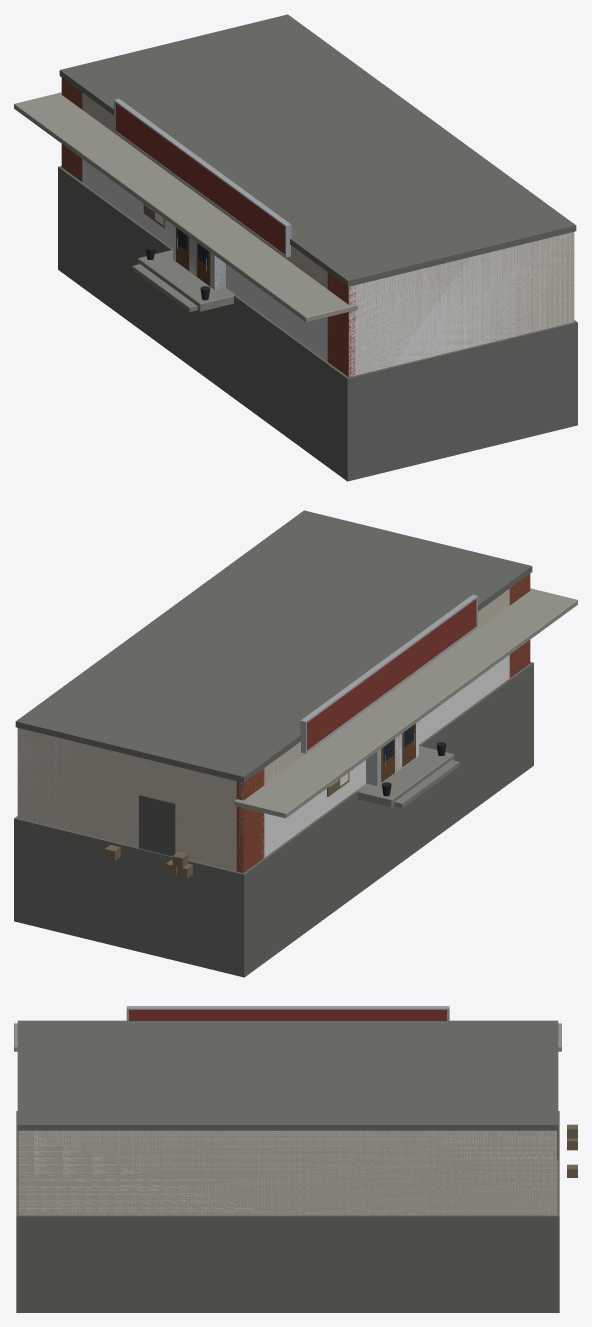
Rendered from shop.glb.
The picture shows the model from 3 angles, top to bottom: view 1: azimuth 30°, elevation 25°; view 2: azimuth 150°, elevation 25°; view 3: azimuth 270°, elevation 25°; orthographic projection. The views are drawn at different scales.
Parts seen in each view (by area): view 1: 00_#6e6e6a, solid, 01_#c4beb0, 05_#9a9a92, 07_paint0_noshadow, 02_#8a4a3a, 06_#85857f, 04_#a8acb0_r320, 08_#6a4a34_r320; view 2: 00_#6e6e6a, 01_#c4beb0, 05_#9a9a92, solid, 07_paint0_noshadow, 02_#8a4a3a, 06_#85857f, 04_#a8acb0_r320, 13_#5a6258_r320, 11_#7a6a56_r320, 08_#6a4a34_r320; view 3: 00_#6e6e6a, 01_#c4beb0, solid, 07_paint0_noshadow, 04_#a8acb0_r320, 11_#7a6a56_r320.
Boxes of the visible parts, bbox=[...] form: 00_#6e6e6a: bbox=[58, 14, 577, 481]; solid: bbox=[82, 159, 574, 376]; 01_#c4beb0: bbox=[82, 93, 574, 374]; 05_#9a9a92: bbox=[14, 92, 357, 322]; 07_paint0_noshadow: bbox=[115, 103, 284, 254]; 02_#8a4a3a: bbox=[61, 77, 355, 377]; 06_#85857f: bbox=[132, 250, 235, 311]; 04_#a8acb0_r320: bbox=[114, 98, 291, 289]; 08_#6a4a34_r320: bbox=[176, 227, 210, 286]; 00_#6e6e6a: bbox=[14, 510, 533, 977]; 01_#c4beb0: bbox=[17, 589, 509, 871]; 05_#9a9a92: bbox=[234, 588, 577, 818]; solid: bbox=[17, 655, 509, 869]; 07_paint0_noshadow: bbox=[307, 599, 476, 750]; 02_#8a4a3a: bbox=[236, 573, 530, 872]; 06_#85857f: bbox=[356, 746, 459, 807]; 04_#a8acb0_r320: bbox=[300, 594, 477, 786]; 13_#5a6258_r320: bbox=[139, 794, 175, 856]; 11_#7a6a56_r320: bbox=[104, 772, 349, 878]; 08_#6a4a34_r320: bbox=[381, 723, 415, 782]; 00_#6e6e6a: bbox=[16, 1020, 559, 1312]; 01_#c4beb0: bbox=[19, 1130, 557, 1215]; solid: bbox=[19, 1130, 557, 1215]; 07_paint0_noshadow: bbox=[129, 1010, 446, 1020]; 04_#a8acb0_r320: bbox=[126, 1006, 449, 1021]; 11_#7a6a56_r320: bbox=[567, 1124, 577, 1177].
Bounding box in the file's own units: 12.1 × 9.02 × 23.05.
